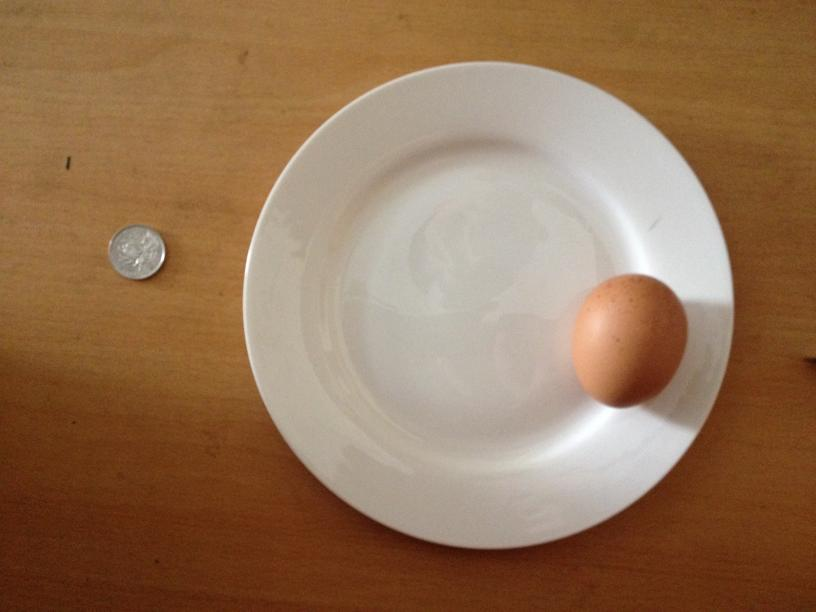coin: (108, 223, 165, 283)
egg: (571, 272, 688, 408)
